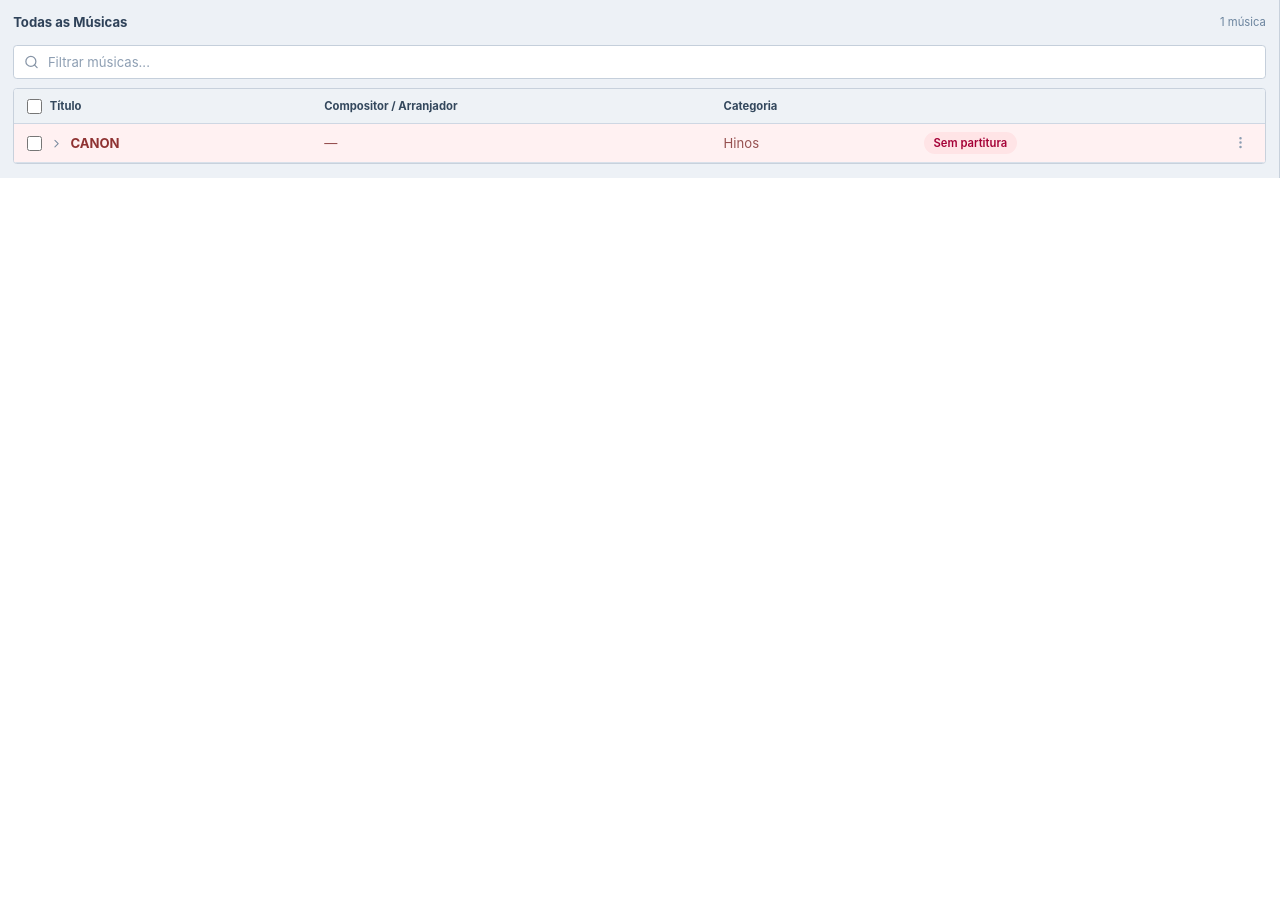
Test case: SongsList › opens a modal naming the song before reindexing it
The width and height of the screenshot is (1280, 900).
Expected: the text "CANON" is shown, [70, 134, 120, 153]
Click the checkbox named "select CANON": (35, 143) [27, 136, 42, 151]
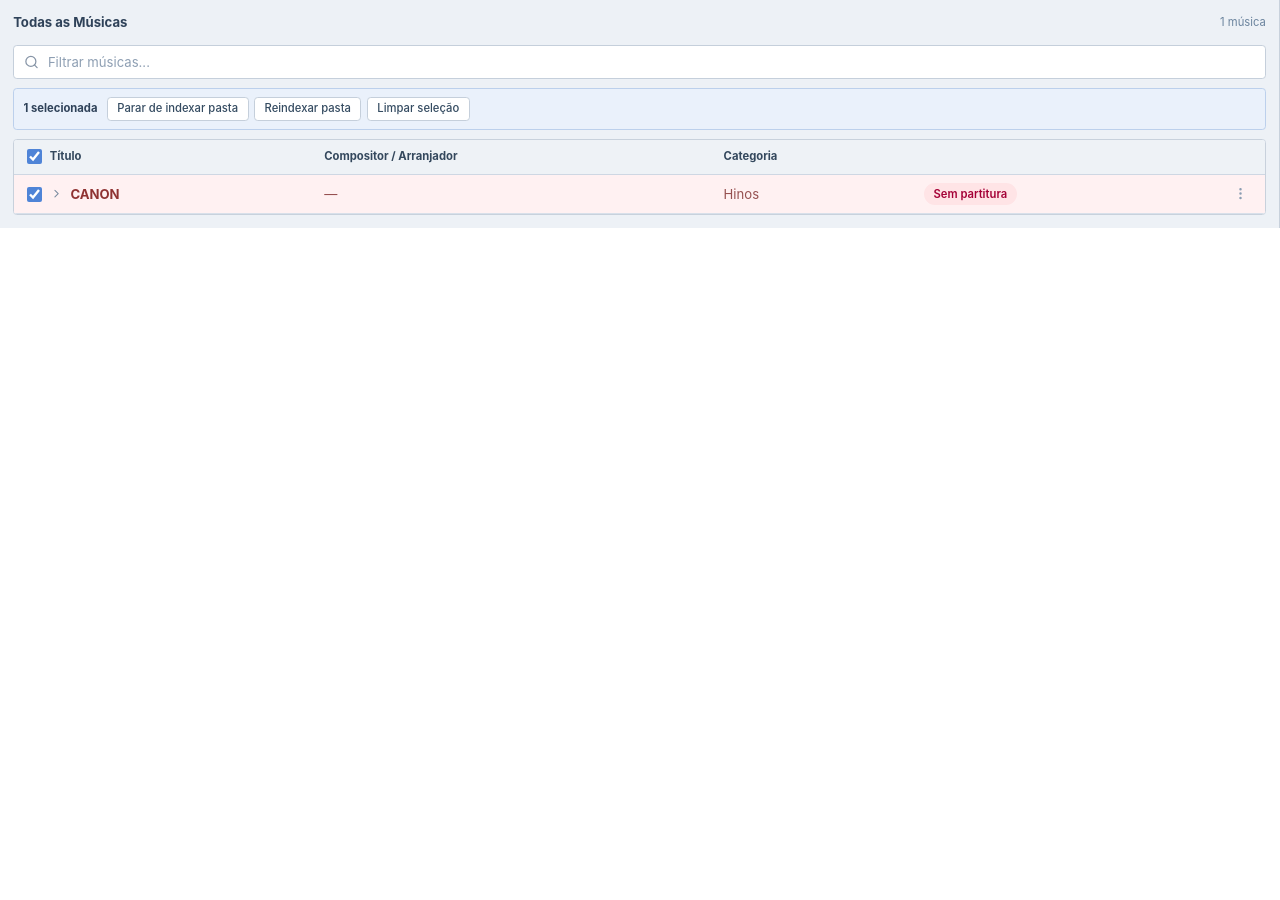
Click the button "Reindexar pasta": (308, 109) [254, 97, 361, 121]
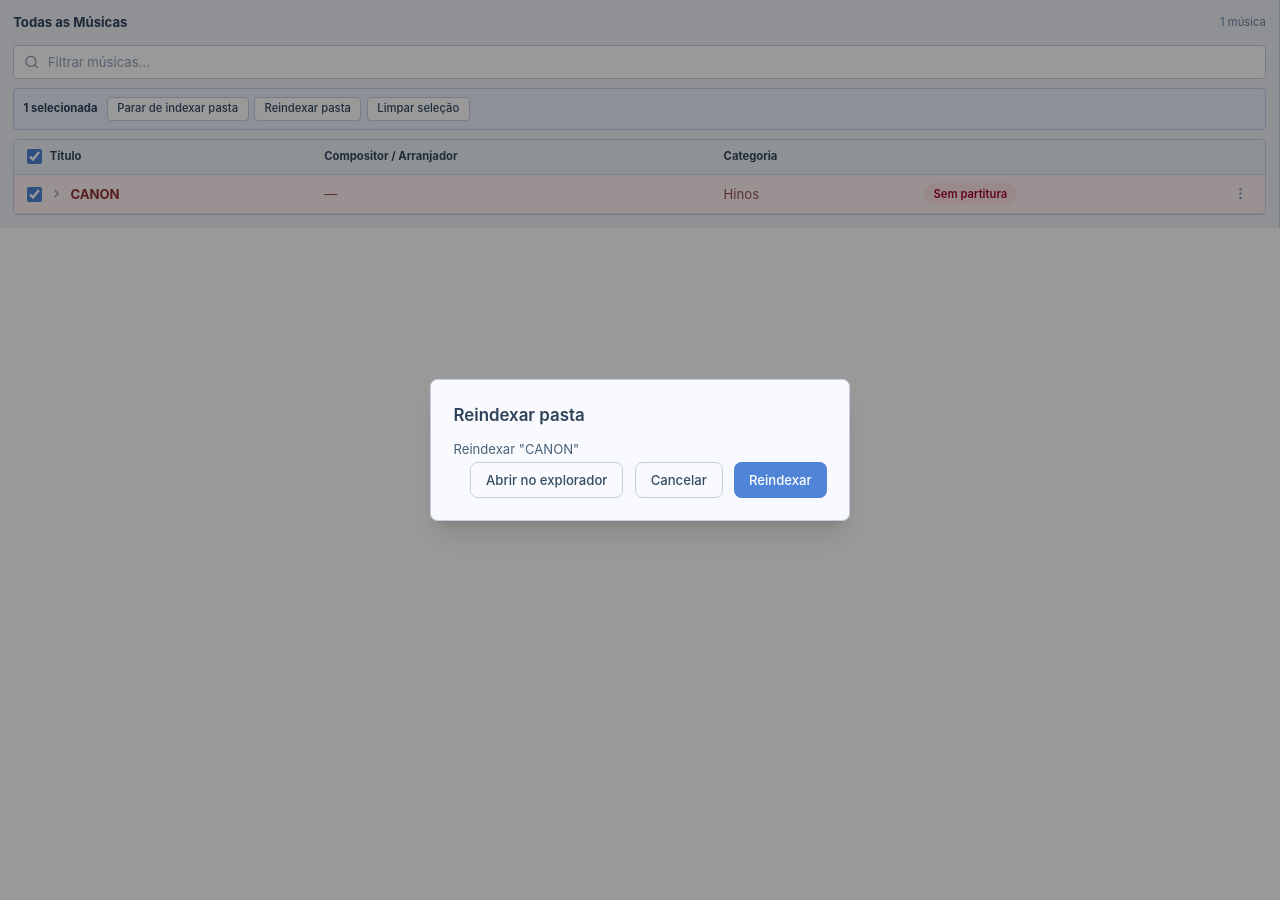
Now the text "Reindexar \"CANON\"" is shown, box [454, 441, 579, 457]
Now the button "Abrir no explorador" is shown, box [470, 462, 623, 498]
